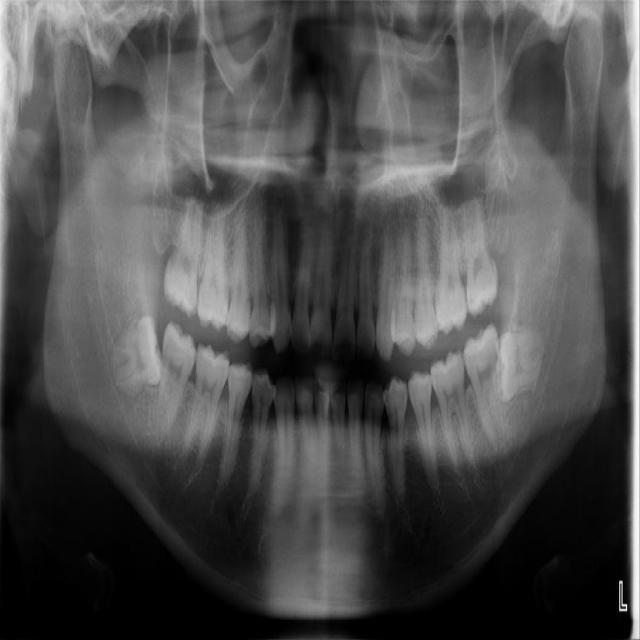73: (618, 588, 632, 612)
BioHorizons Implant: (460, 198, 499, 319)
Biomet 3i Implant: (496, 327, 541, 404)
Blue Sky Bio Implant: (460, 323, 506, 453)
Caries: (161, 199, 206, 319)
Implant: (152, 321, 202, 440)
Keystone Dental Implant: (103, 315, 167, 398)
